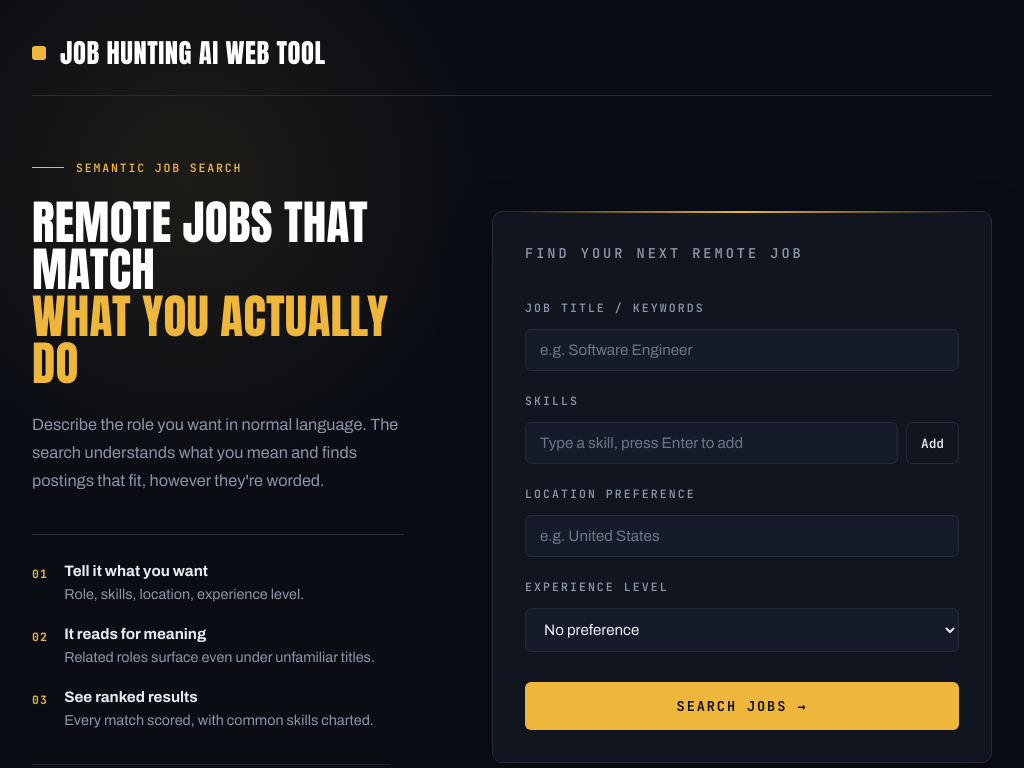
it: shows an error message when the backend is unreachable
The width and height of the screenshot is (1024, 768).
Step 1. Click the button "Search Jobs" → (742, 706), box [525,682,959,730]
(page scrolled)
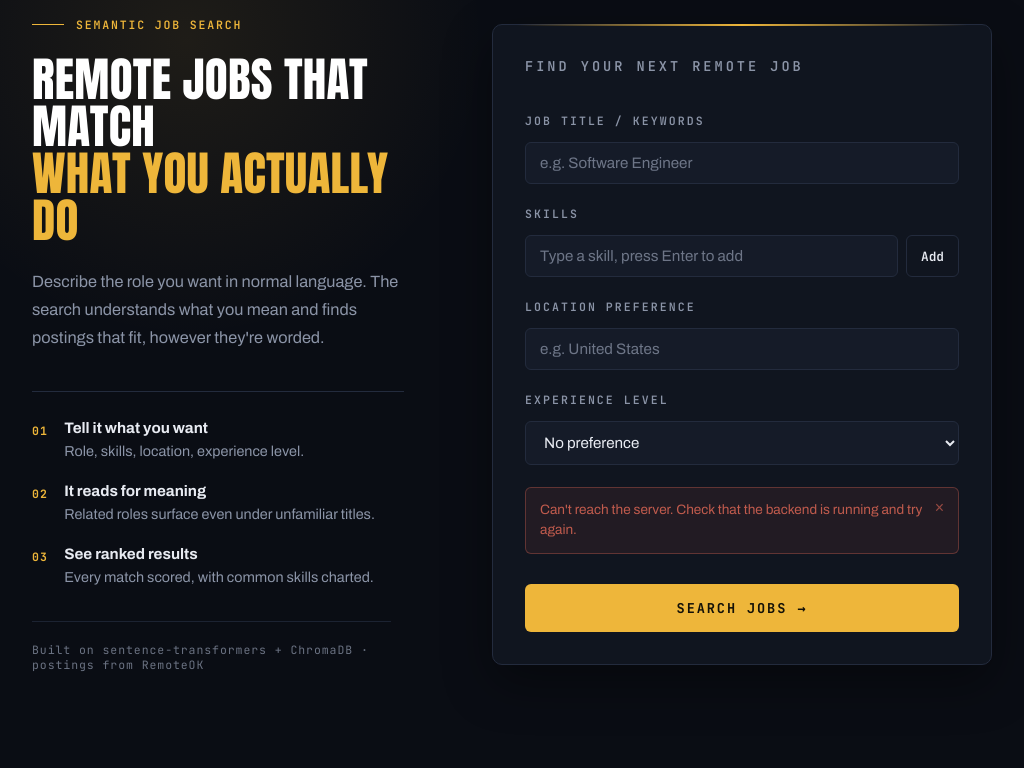
Expected: the button "Search Jobs" is shown, [525,584,959,632]
Result: the text "Can't reach the server" is shown at [540,502,922,538]
